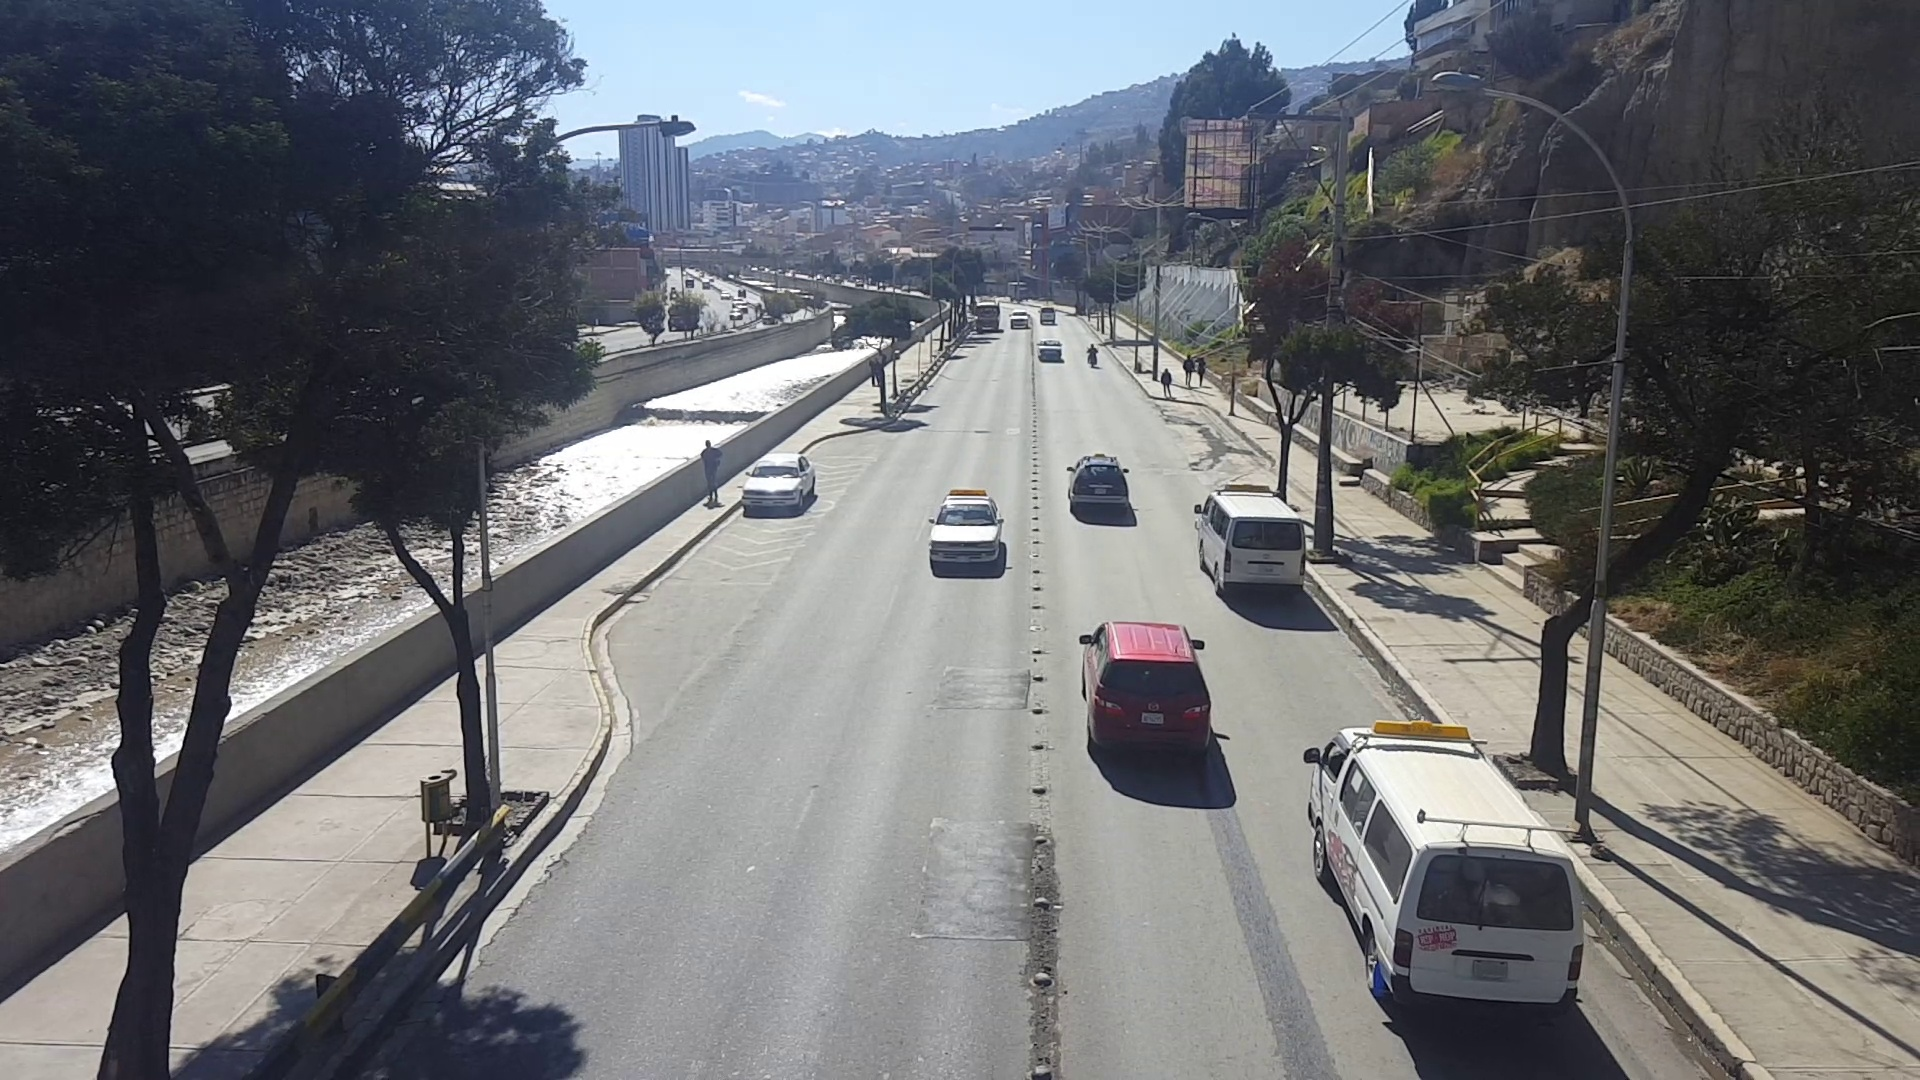automovil: (1077, 618, 1218, 760)
minibus: (1298, 723, 1586, 1007), (1195, 481, 1308, 597)
taxitrufi: (923, 489, 1010, 568), (1065, 452, 1131, 516)
